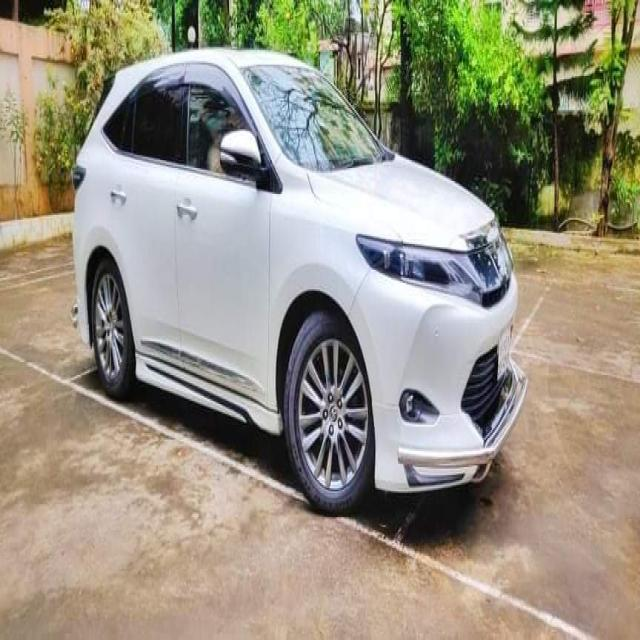white: (67, 58, 558, 476)
